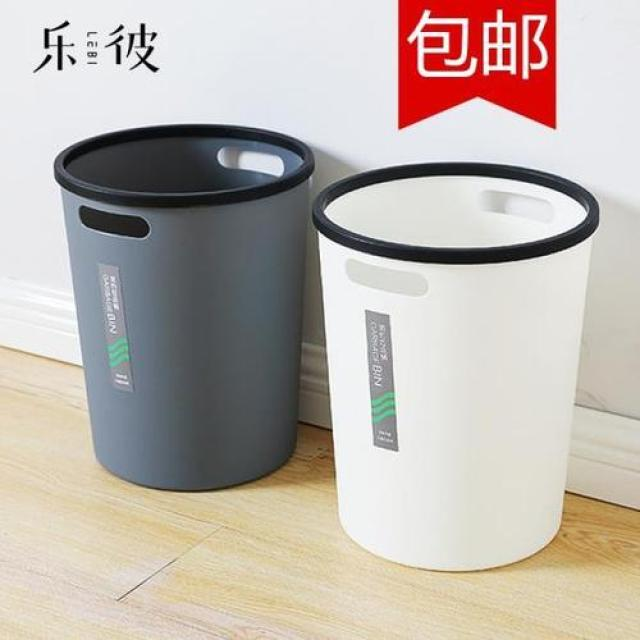dustbin: (310, 156, 609, 576), (50, 119, 317, 492)
